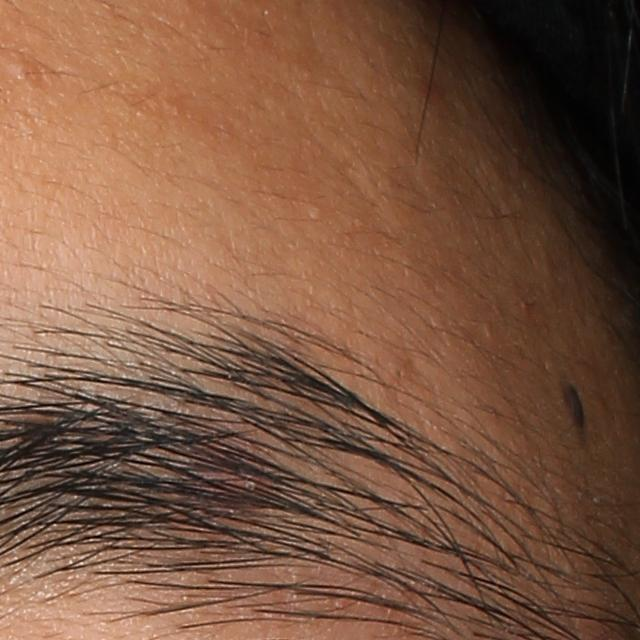comedo: (6, 57, 41, 84), (306, 199, 327, 222)
nevus: (555, 373, 587, 448)
